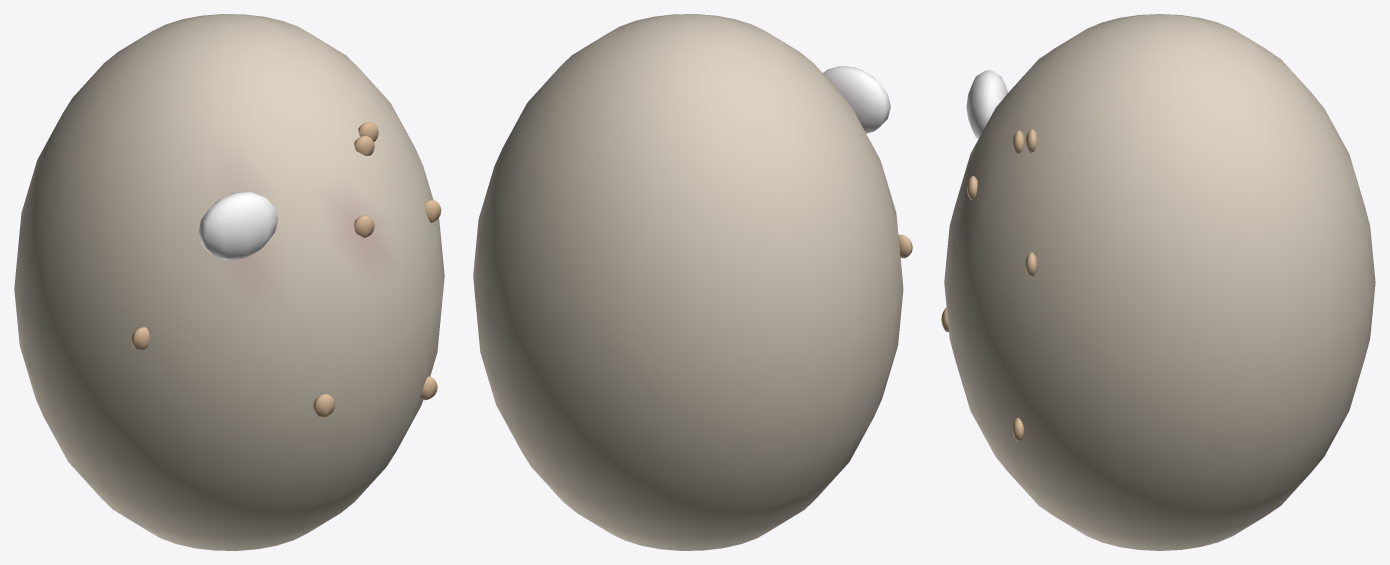
File: egg.glb
3 views of the same model, side by side, from view 1: azimuth 30°, elevation 25°; view 2: azimuth 150°, elevation 25°; view 3: azimuth 270°, elevation 25° (orthographic).
Visible parts, largest first — view 1: shell, shine, cd9b996; view 2: shell, shine; view 3: shell, shine, cd9b996.
Boxes of the visible parts, x1,y1,x2,y2 form: shell: [14, 14, 444, 550]; shine: [198, 191, 278, 260]; cd9b996: [131, 122, 441, 417]; shell: [473, 14, 903, 550]; shine: [823, 66, 890, 133]; shell: [944, 14, 1375, 550]; shine: [966, 70, 1008, 138]; cd9b996: [941, 129, 1037, 441].
Bounding box in the file's own units: 0.68 × 0.884 × 0.6845.
